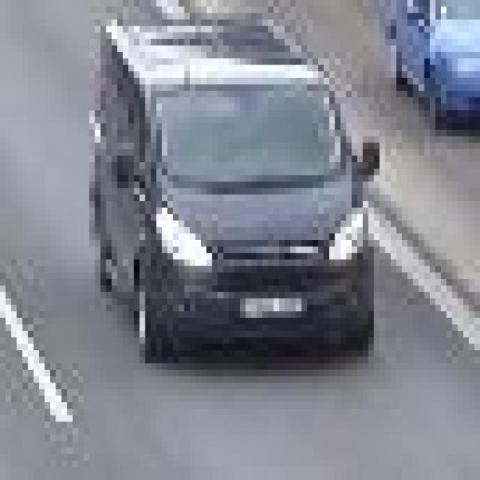van: (98, 16, 377, 361)
